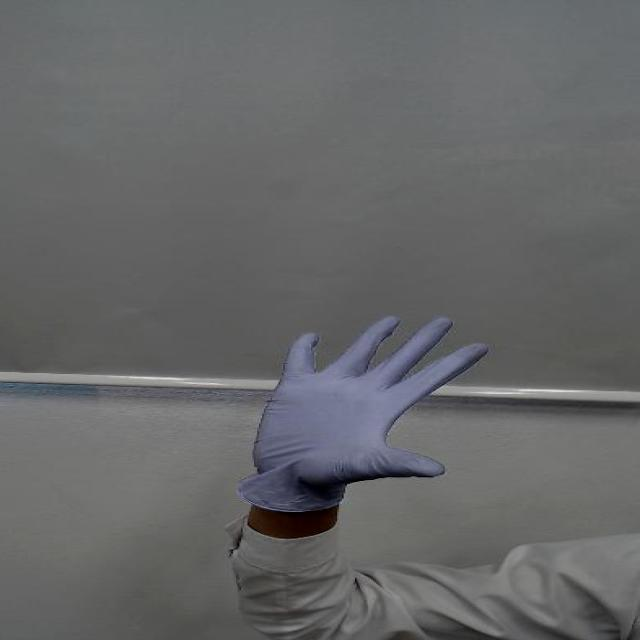glove: (238, 304, 498, 486)
